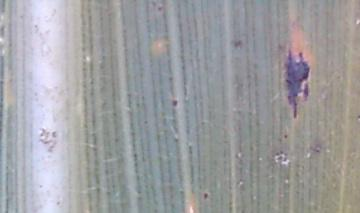tarspot: (283, 45, 311, 119), (36, 125, 58, 154), (230, 38, 243, 49), (308, 144, 323, 152), (171, 97, 179, 109), (201, 190, 210, 200), (141, 118, 149, 125), (167, 75, 175, 82), (282, 132, 288, 141), (156, 5, 162, 12), (356, 112, 360, 121)
